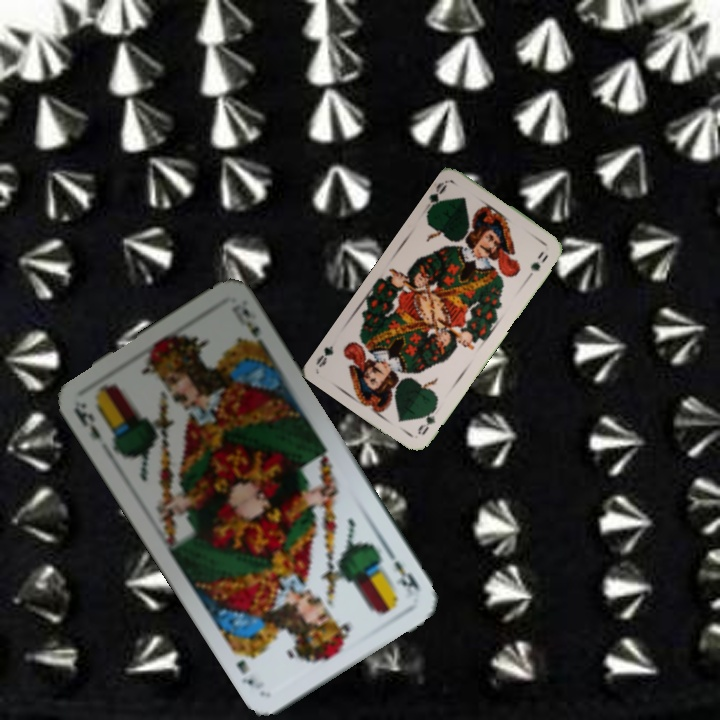EK: (382, 545, 423, 592), (70, 404, 104, 443)
GO: (420, 178, 450, 214), (413, 401, 440, 438)
